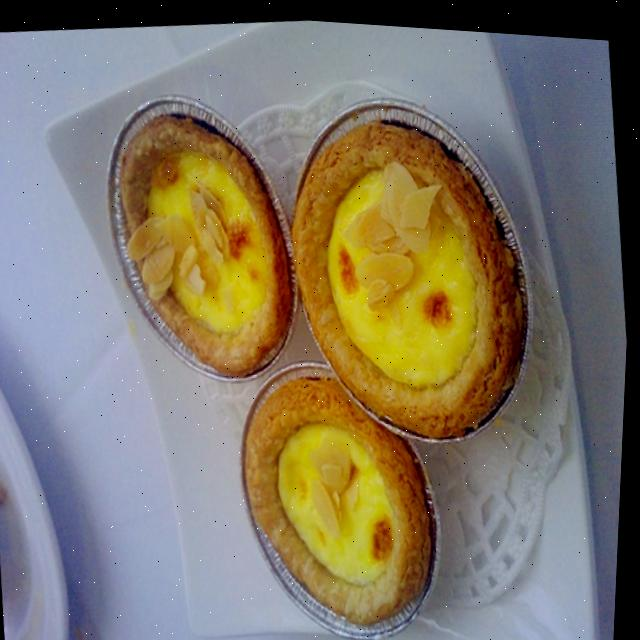炸货点心: (247, 63, 552, 471)
蛋糕甜品: (247, 63, 552, 471)
